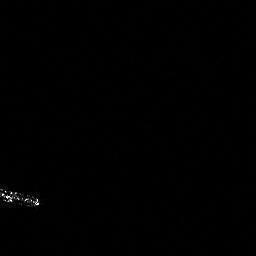ship: (1, 188, 53, 210)
